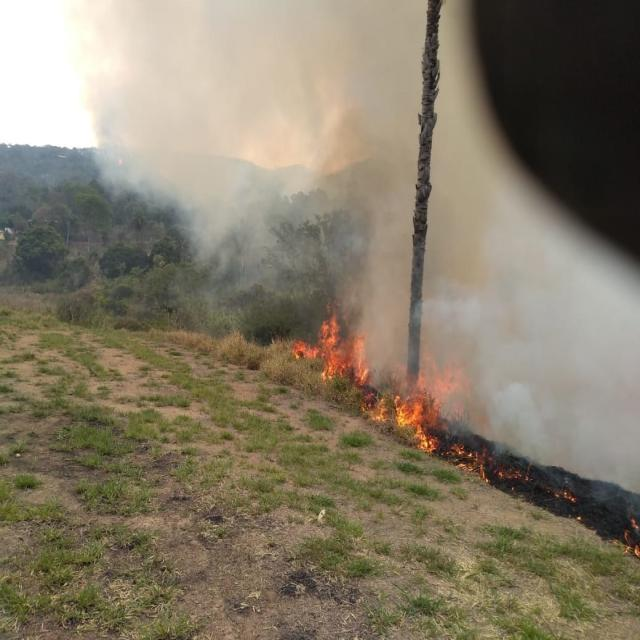Fire: (290, 299, 532, 486), (622, 516, 640, 561)
Smoke: (65, 1, 640, 516)
